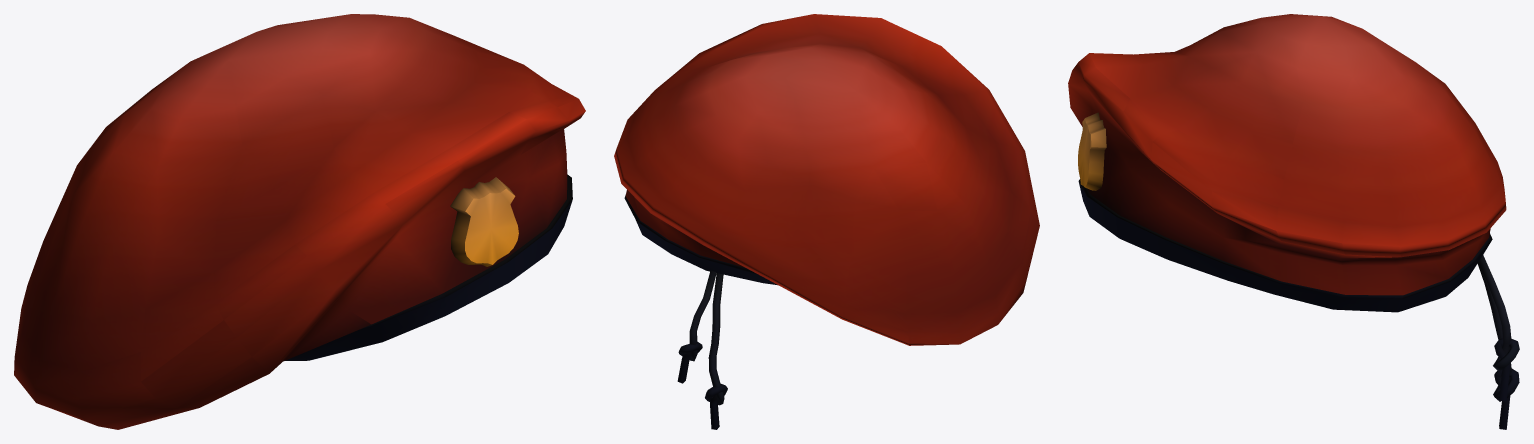
The model's file is Cap_Special_Forces_Beret.gltf.
3 views of the same model, side by side, from view 1: azimuth 30°, elevation 25°; view 2: azimuth 150°, elevation 25°; view 3: azimuth 270°, elevation 25° (orthographic). The views are drawn at different scales.
Visible parts, largest first — view 1: Cap_Special_Forces_Beret; view 2: Cap_Special_Forces_Beret; view 3: Cap_Special_Forces_Beret.
Part boxes in pixels (left/top/right/bottom): Cap_Special_Forces_Beret: left=14, top=14, right=585, bottom=429; Cap_Special_Forces_Beret: left=614, top=14, right=1039, bottom=429; Cap_Special_Forces_Beret: left=1068, top=14, right=1519, bottom=429.
Size of the model in its own units: 1.1 by 0.9047 by 0.9699.
Materials: 3 (3 with a texture image).
